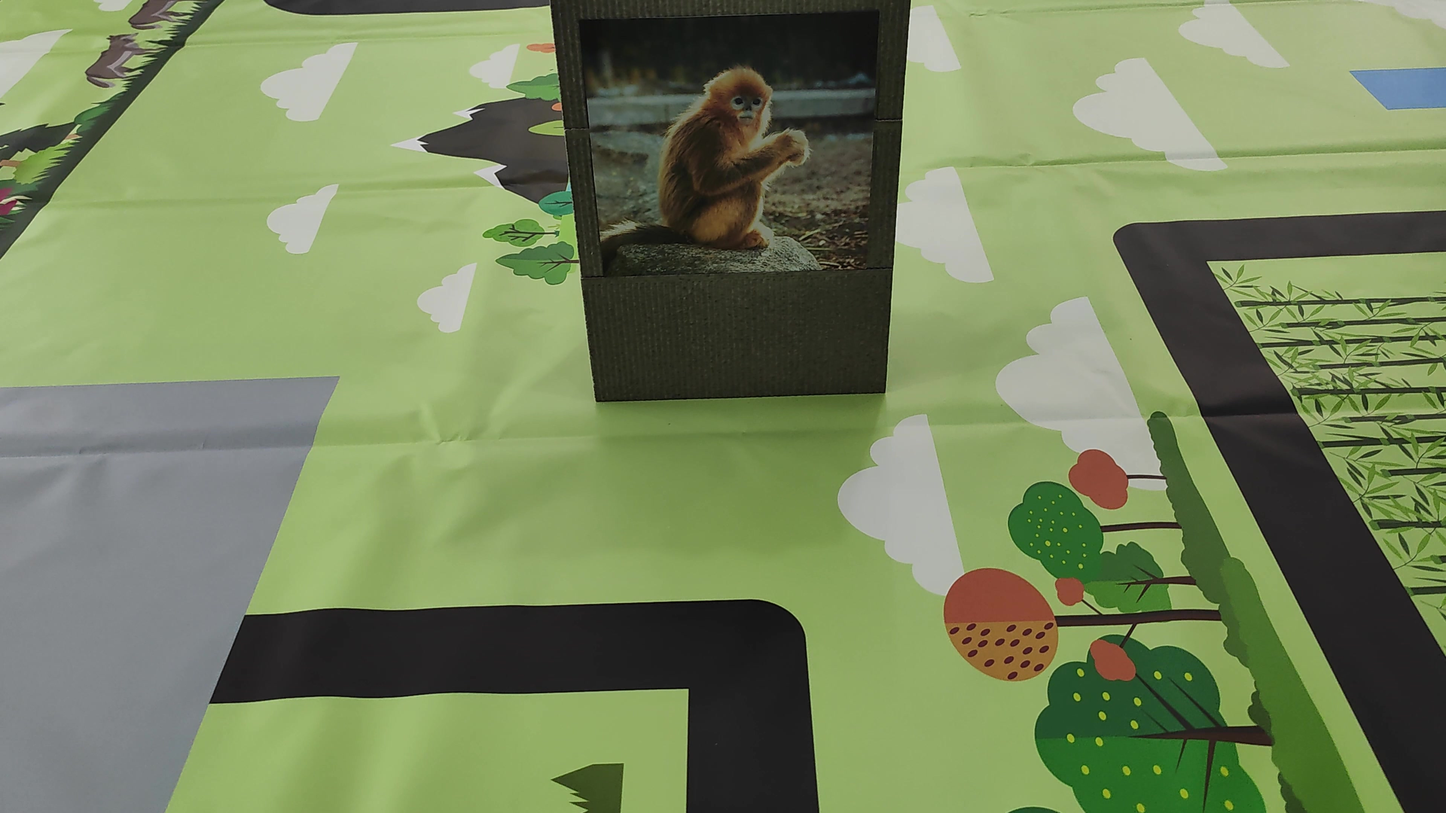monkey: (616, 26, 867, 251)
